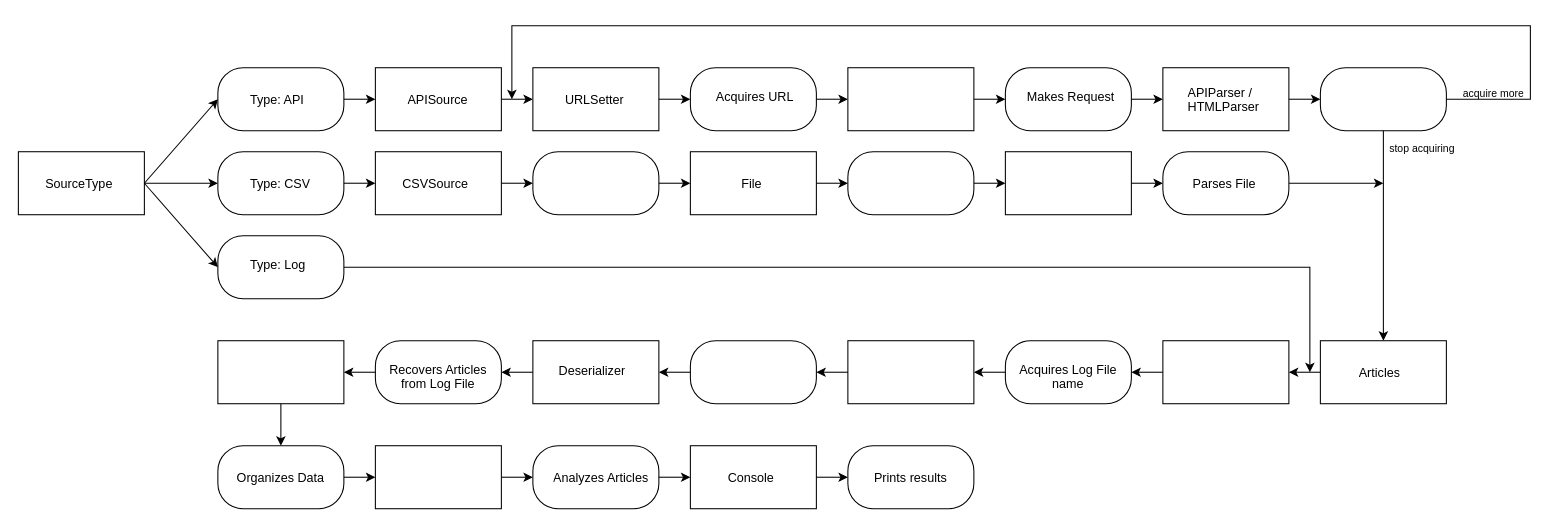
The diagram is 1557 pixels wide and 527 high, and some of its shapes have lost their labels. The shapes that lost their labels are listed below. From the top down, each one's centre as x and y in pixels, then its label:
At point 910,99: "HTTPClient".
At point 1382,99: "Parses Response".
At point 595,183: "Acquires File name".
At point 910,183: "Reads File".
At point 1067,183: "CSVParser".
At point 280,372: "TreeStorage".
At point 752,372: "Stores Articles in Log File".
At point 910,372: "Serializer".
At point 1225,372: "Log File".
At point 437,477: "Tokenizer".
